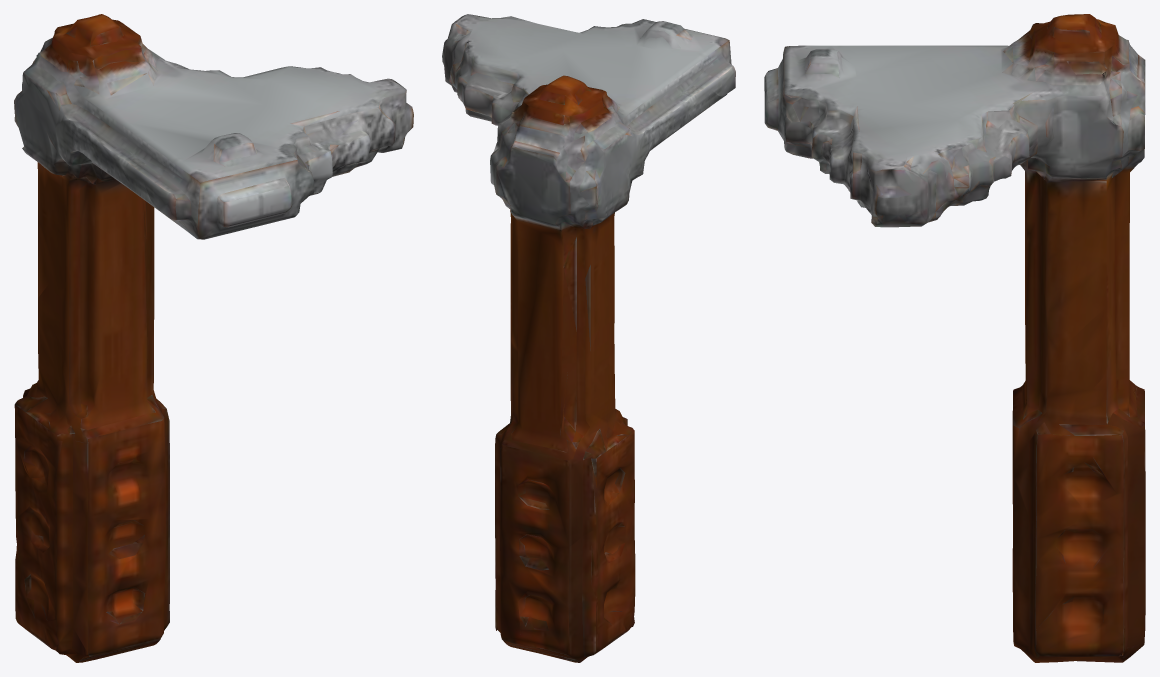
File: hoe.glb
The picture shows the model from 3 angles, left to right: view 1: azimuth 30°, elevation 25°; view 2: azimuth 150°, elevation 25°; view 3: azimuth 270°, elevation 25°; orthographic projection. The views are drawn at different scales.
Parts seen in each view (by area): view 1: Hoe; view 2: Hoe; view 3: Hoe.
Boxes of the visible parts, box(x1,y1,x2,y2) form: Hoe: box(14, 14, 413, 662); Hoe: box(442, 14, 735, 662); Hoe: box(764, 14, 1145, 662).
Bounding box in the file's own units: 0.1548 × 0.3276 × 0.1807.
Materials: 1 (1 with a texture image).
